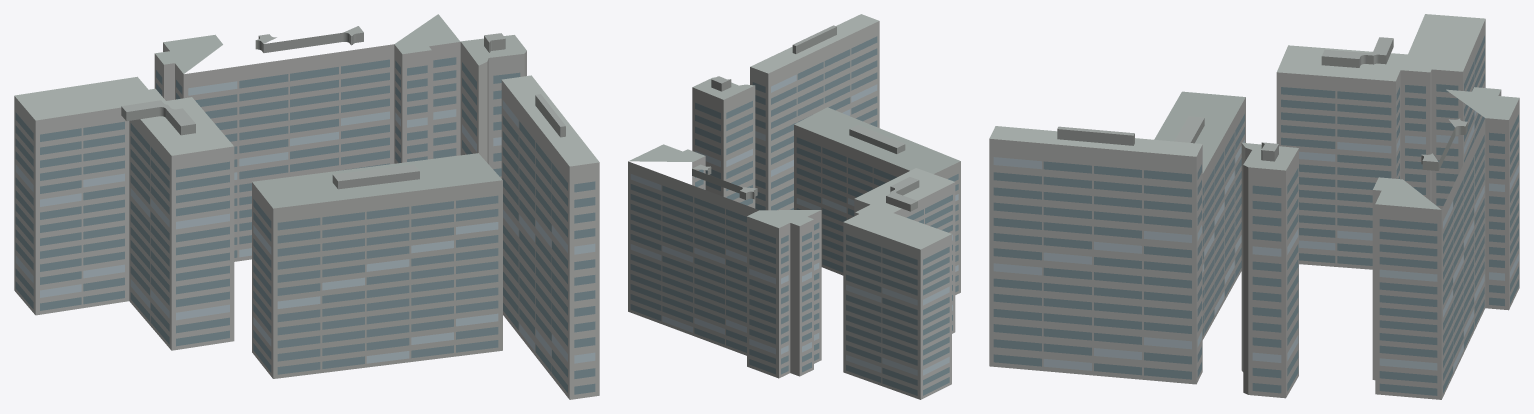
File: apt-a13113006.glb
3 views of the same model, side by side, from view 1: azimuth 30°, elevation 25°; view 2: azimuth 150°, elevation 25°; view 3: azimuth 270°, elevation 25° (orthographic). The views are drawn at different scales.
Parts seen in each view (by area): view 1: apt-a13113006; view 2: apt-a13113006; view 3: apt-a13113006.
Part boxes in pixels (x1,y1,x2,y2): apt-a13113006: (14,14,599,399); apt-a13113006: (628,14,960,399); apt-a13113006: (989,14,1519,399).
Size of the model in its own units: 84.39 by 47.81 by 96.56.
